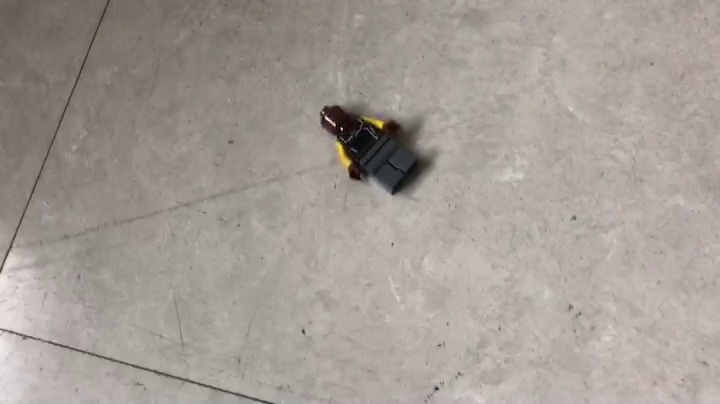people: (318, 105, 424, 197)
